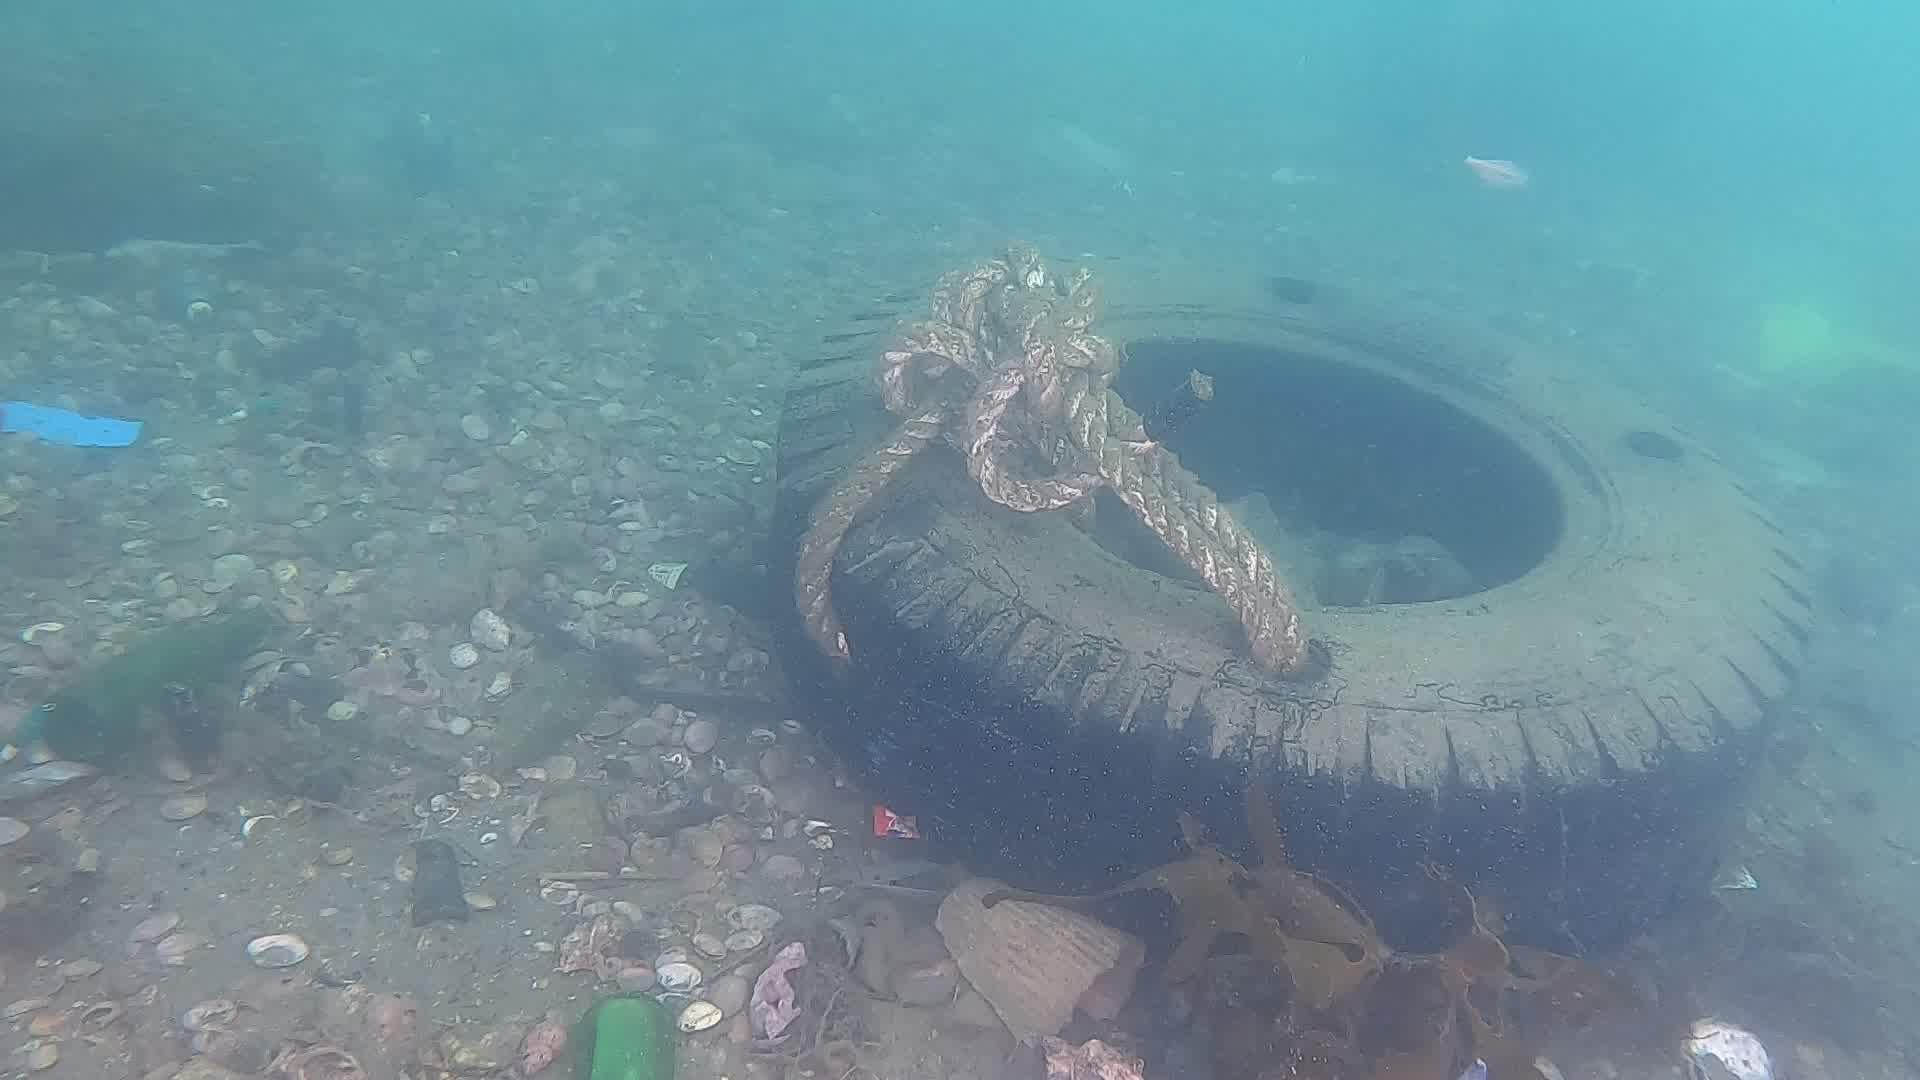bundle of ropes: (786, 243, 1316, 684)
tire: (775, 247, 1828, 965)
